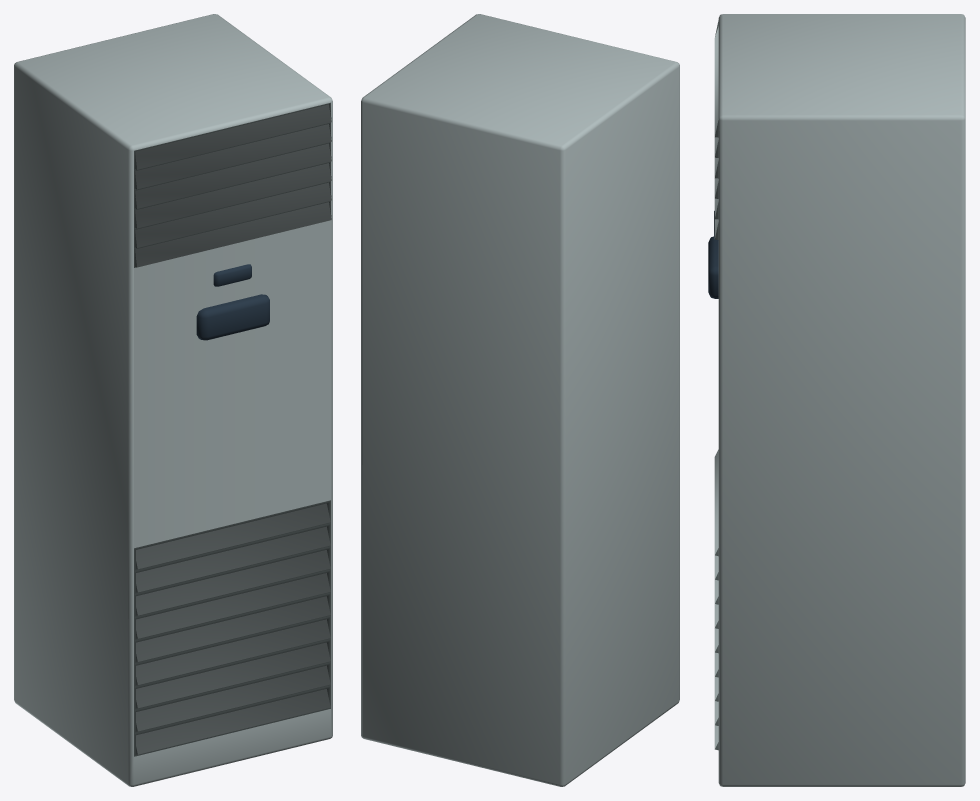
Rendered from Air-Conditioning-1.fbx.
3 renders of one model, left to right at view 1: azimuth 30°, elevation 25°; view 2: azimuth 150°, elevation 25°; view 3: azimuth 270°, elevation 25°, orthographic. The views are drawn at different scales.
Parts seen in each view (by area): view 1: Air-Conditioning-1; view 2: Air-Conditioning-1; view 3: Air-Conditioning-1.
Part boxes in pixels (x1=…): Air-Conditioning-1: x1=14, y1=14, x2=332, y2=786; Air-Conditioning-1: x1=361, y1=14, x2=679, y2=786; Air-Conditioning-1: x1=708, y1=14, x2=965, y2=786.
Size of the model in its own units: 0.5 by 1.5 by 0.5209.
